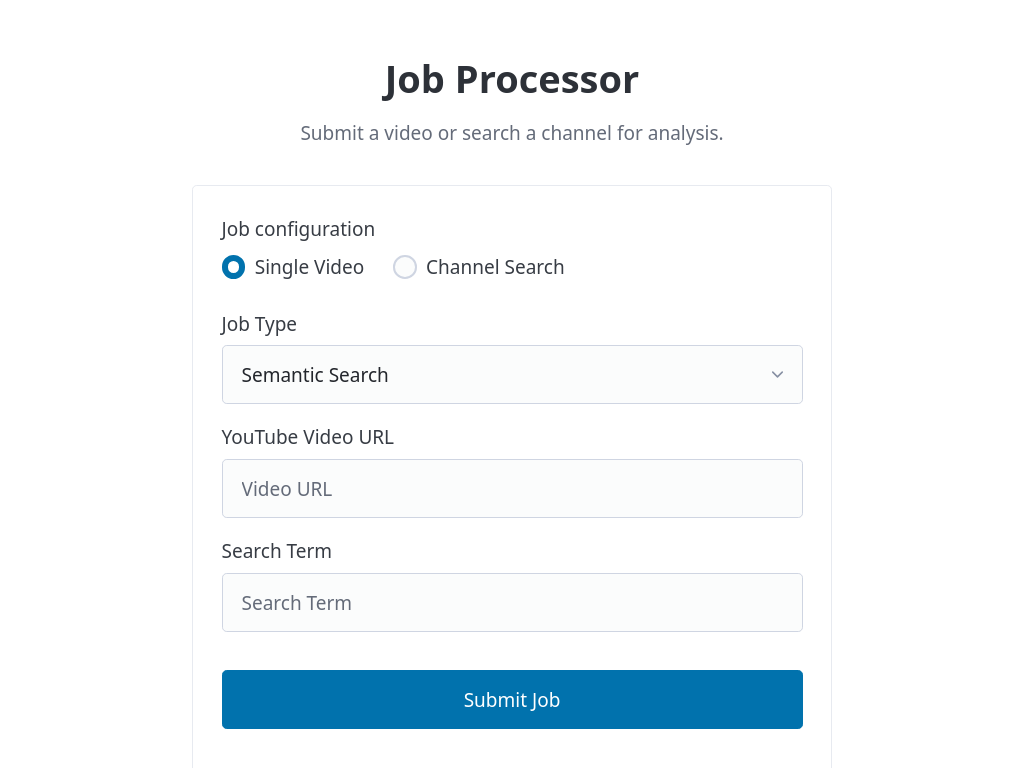
Test: user can create a session and see session status
The width and height of the screenshot is (1024, 768).
Type "https://www.youtube.com/watch?v=testURL" into the field with placeholder "Video URL" at (512, 489), box [222,459,802,518]
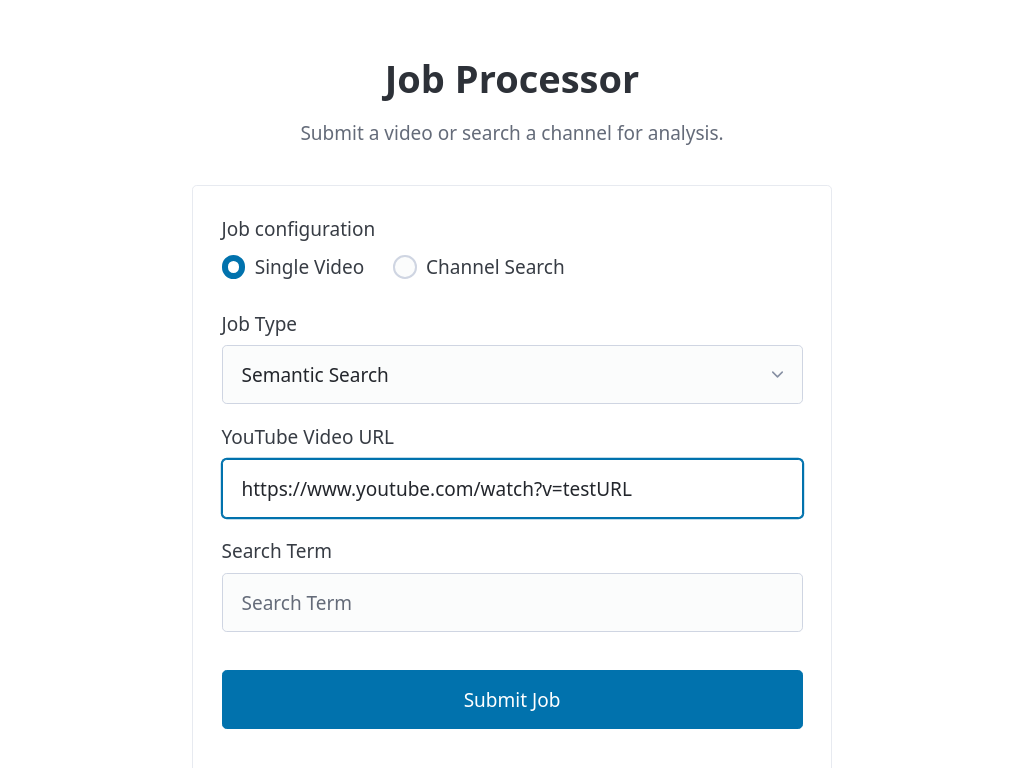
Type "test search" into the field with placeholder "Search Term" at (512, 603), box [222,573,802,632]
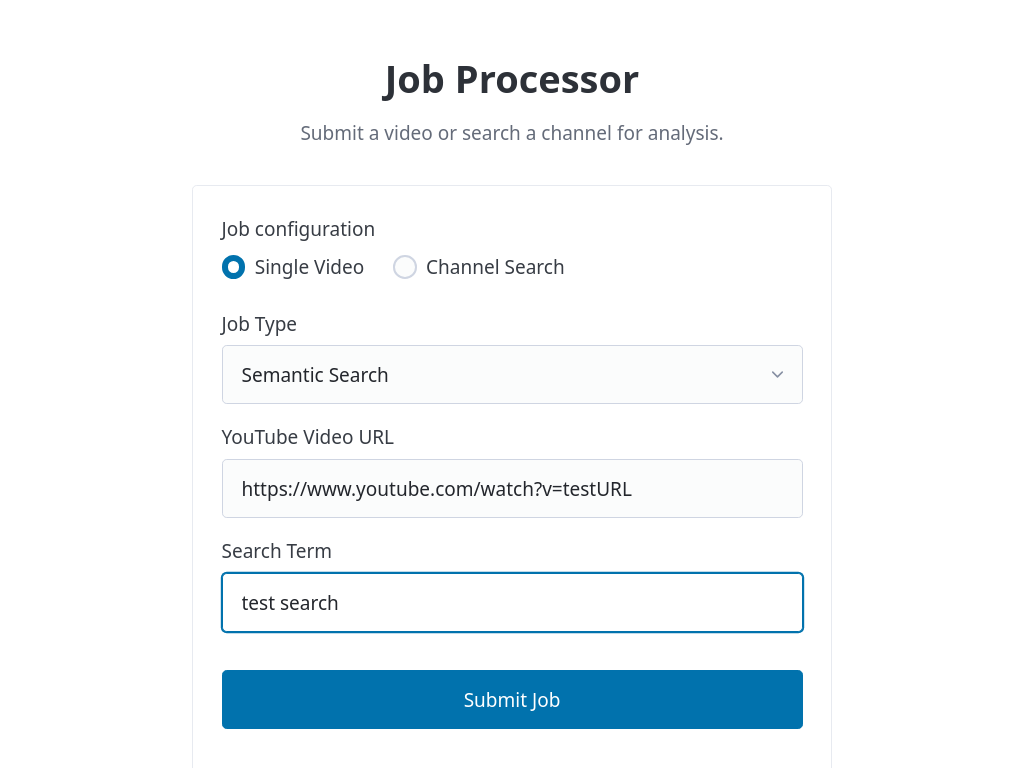
Click submit
Click the button "Submit Job" at (512, 700), box [222,670,802,729]
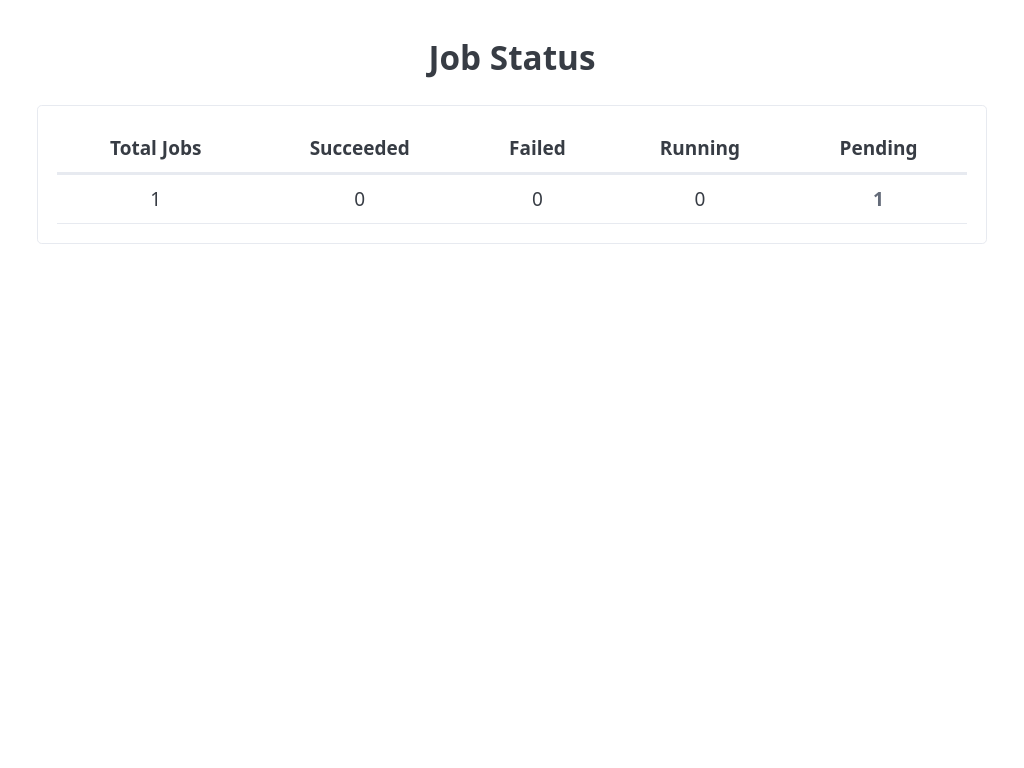
Expected: the heading "Job Status" is shown, [428,34,595,80]
